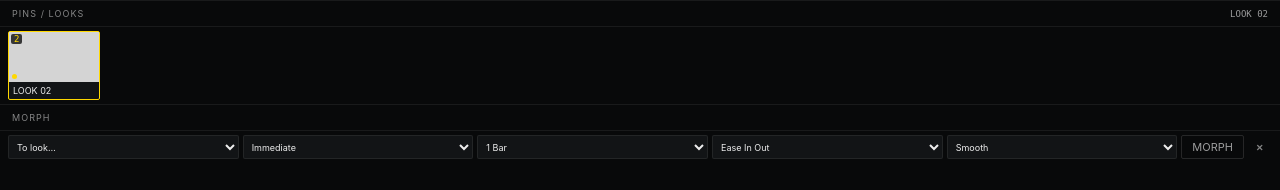
Test case: morph launcher › style and cancel go to the morph runtime; progress is shown while morphing
The width and height of the screenshot is (1280, 190).
Select "Cut" in the dropdown named "Transition style" at coordinates (1062, 147), box left=947, top=135, right=1177, bottom=159
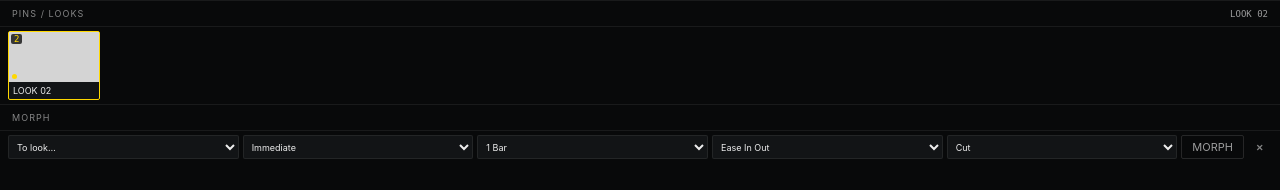
Click the button titled "Cancel & keep current state" at coordinates (1260, 147), box left=1248, top=135, right=1272, bottom=159
Wait 150 ms
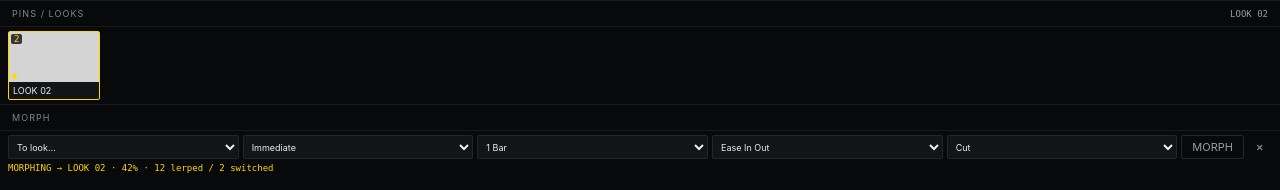
Now the text "MORPHING → LOOK 02 · 42% · 12 lerped / 2 switched" is shown, box left=8, top=163, right=274, bottom=173
